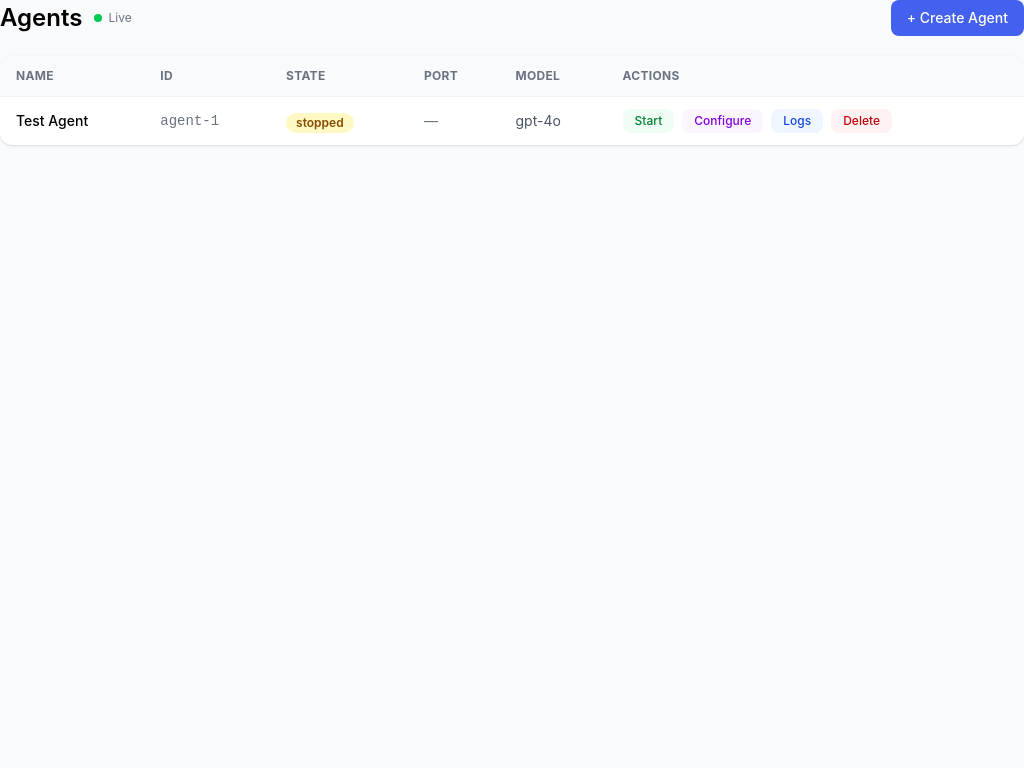
it: Configure Modal › opens configure modal pre-populated with agent config
The width and height of the screenshot is (1024, 768).
Click the button "Configure" at (723, 121), box [682,109,763,133]
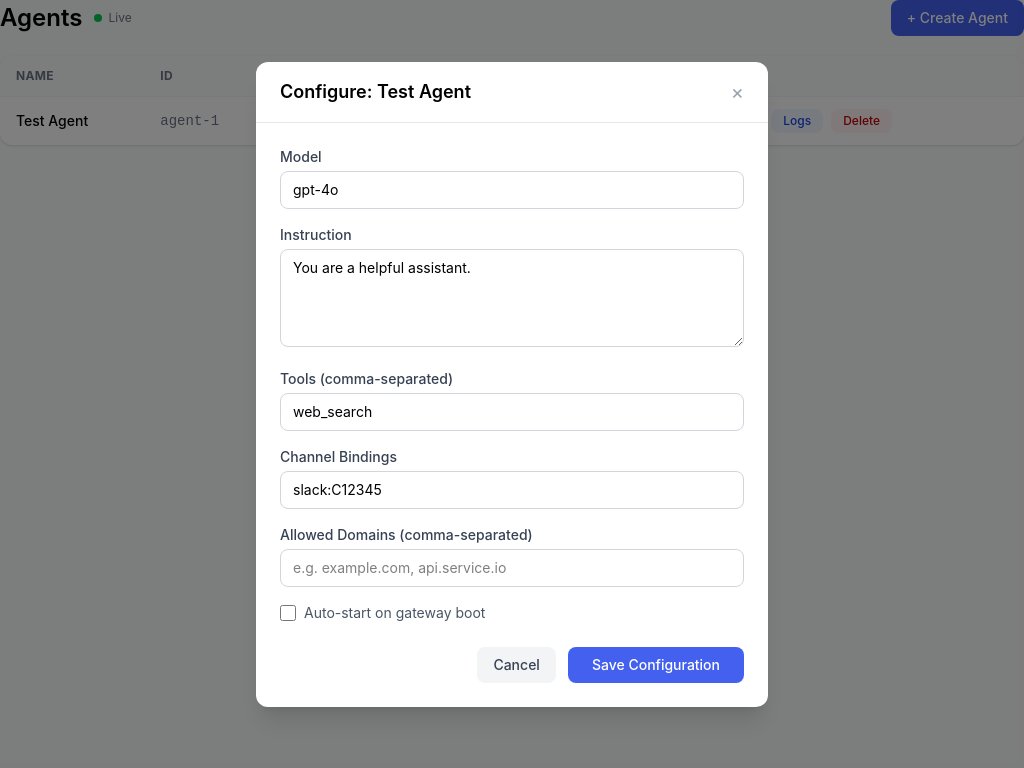
Result: the heading "Configure: Test Agent" is shown at [280,78,471,106]
Result: the 1st field showing "gpt-4o" is shown at [280,170,744,208]
Result: the text box showing "You are a helpful assistant." is shown at [280,248,744,346]
